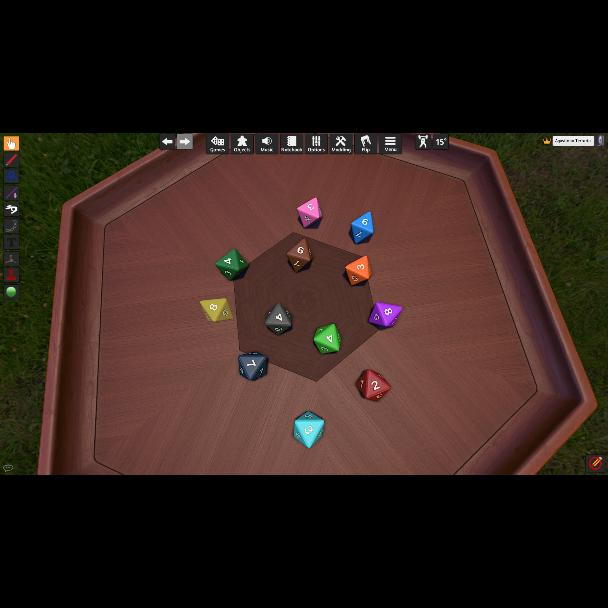d8: (356, 369, 390, 401), (293, 412, 323, 448), (216, 249, 248, 281), (264, 303, 292, 335), (286, 238, 312, 272), (238, 352, 268, 380), (369, 302, 401, 328), (314, 324, 340, 354), (296, 198, 322, 228), (345, 256, 371, 286), (351, 211, 374, 243), (200, 298, 230, 322)
